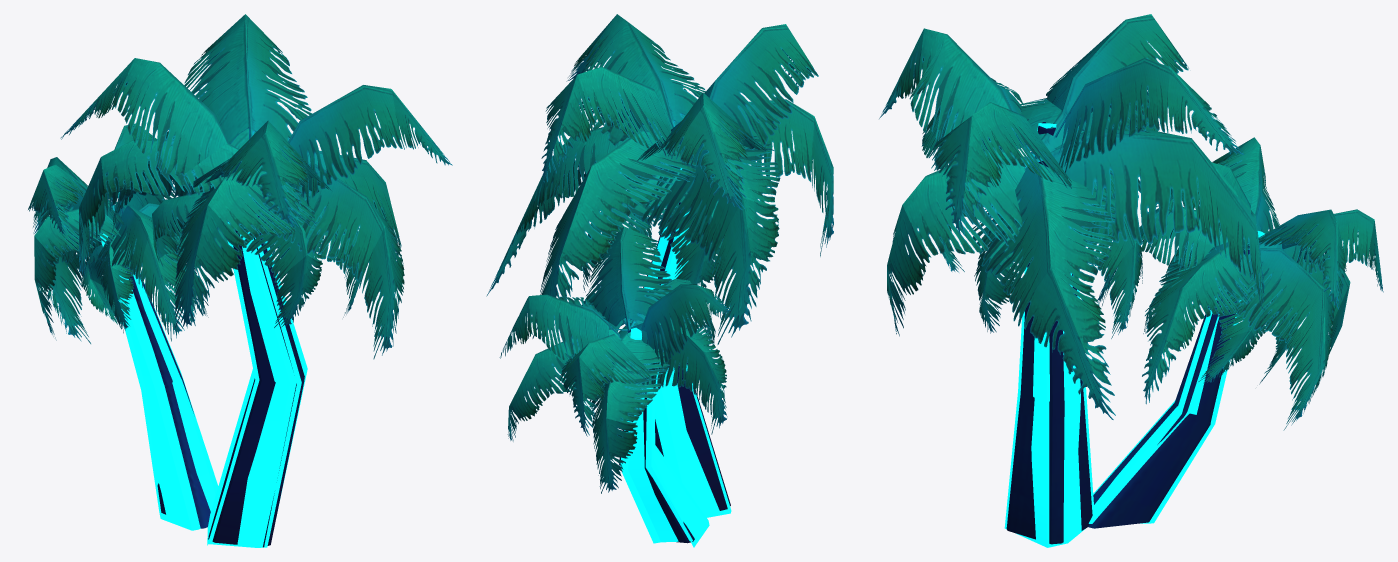
The model's file is entity16728.gltf.
3 views of the same model, side by side, from view 1: azimuth 30°, elevation 25°; view 2: azimuth 150°, elevation 25°; view 3: azimuth 270°, elevation 25° (orthographic). The views are drawn at different scales.
Visible parts, largest first — view 1: node_Palm, node_Palm_unique_outline; view 2: node_Palm, node_Palm_unique_outline; view 3: node_Palm, node_Palm_unique_outline.
Part boxes in pixels (left/top/right/bottom): node_Palm: left=28, top=14, right=452, bottom=547; node_Palm_unique_outline: left=100, top=222, right=307, bottom=547; node_Palm: left=486, top=14, right=833, bottom=543; node_Palm_unique_outline: left=620, top=168, right=731, bottom=547; node_Palm: left=879, top=14, right=1383, bottom=544; node_Palm_unique_outline: left=1004, top=123, right=1264, bottom=547.
Bounding box in the file's own units: 9.64 × 13.16 × 12.46.
Materials: 2 (1 with a texture image).
